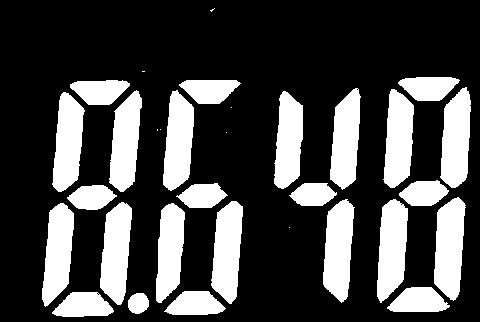4: (269, 83, 364, 309)
6: (154, 75, 245, 317)
8: (37, 76, 145, 319), (377, 71, 473, 312)
dot: (128, 290, 150, 316)
